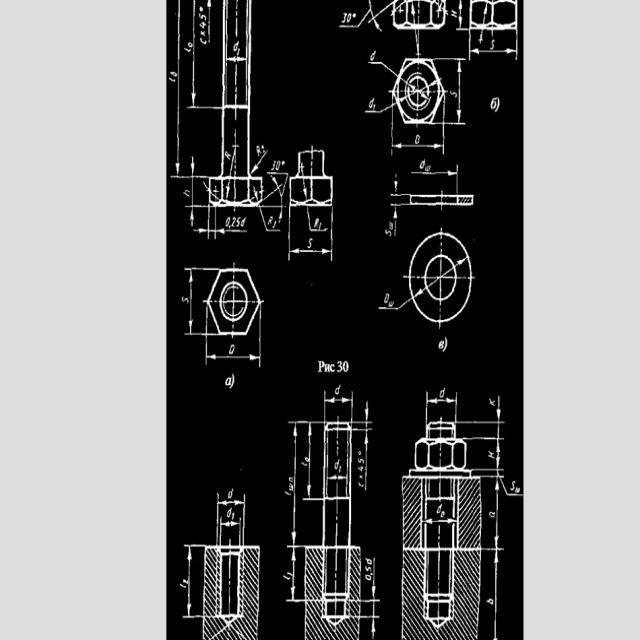marking_line: (176, 0, 180, 175), (292, 425, 297, 546), (251, 148, 270, 175), (494, 552, 499, 640), (363, 430, 370, 492), (456, 60, 463, 122), (187, 546, 193, 617), (209, 353, 260, 361), (392, 142, 443, 150), (307, 422, 312, 498), (192, 0, 195, 106), (423, 516, 457, 525), (290, 248, 331, 255), (495, 478, 499, 546), (411, 171, 456, 177), (471, 48, 516, 54), (189, 271, 193, 335), (206, 0, 211, 42), (372, 556, 377, 598), (219, 498, 242, 507), (291, 548, 295, 598), (428, 397, 456, 404), (495, 396, 503, 420), (392, 206, 398, 238), (457, 0, 463, 31), (495, 440, 501, 469), (216, 228, 250, 233), (221, 520, 238, 528), (324, 398, 351, 403), (189, 156, 196, 175), (364, 399, 370, 419), (226, 56, 245, 62), (189, 209, 195, 227), (371, 619, 376, 640), (194, 227, 207, 233)
numeric: (196, 12, 208, 47), (224, 215, 241, 228), (357, 457, 365, 481), (337, 359, 348, 375), (363, 566, 371, 586), (342, 12, 353, 24), (271, 159, 281, 172)
special_symbol: (333, 383, 344, 398), (356, 449, 363, 457), (281, 159, 287, 167)
